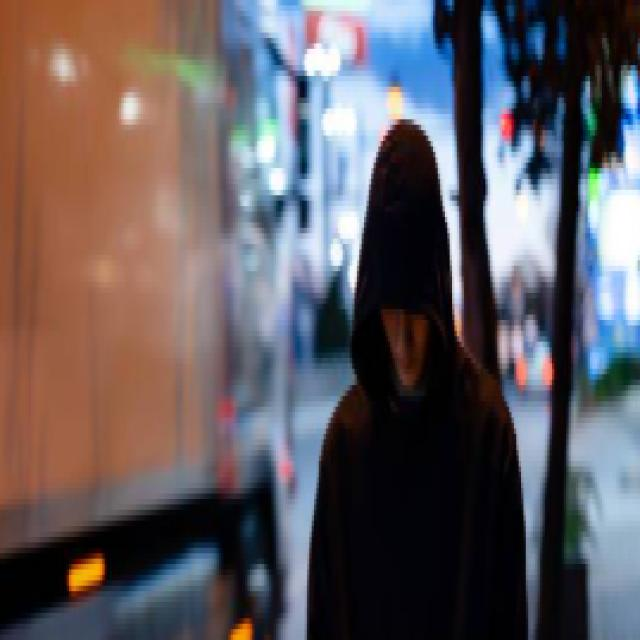4_capucha: (348, 115, 458, 418)
